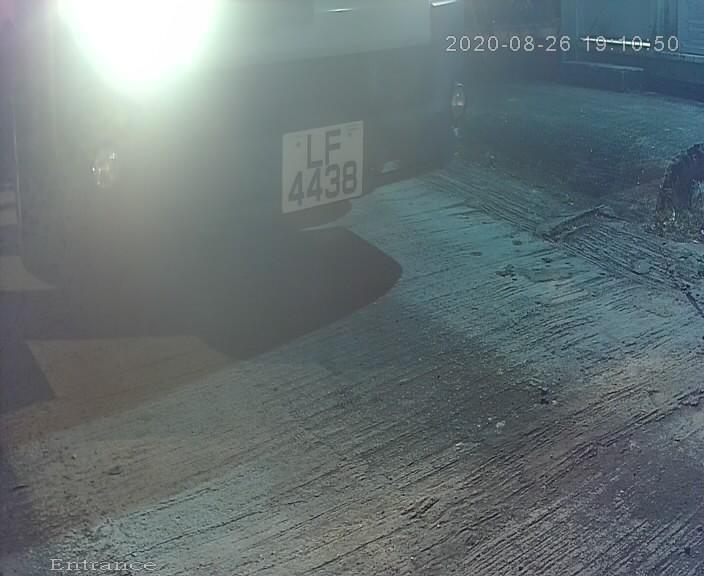License Plate: (268, 109, 381, 229)
